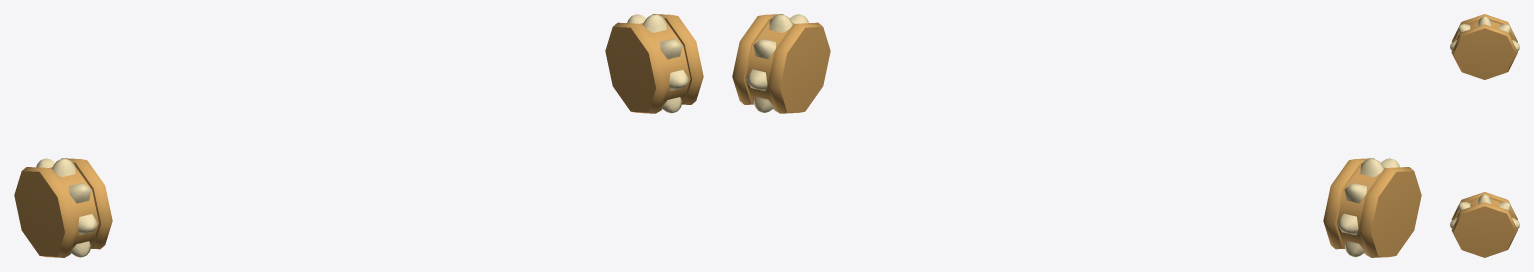
Rendered from Bracelet_2.fbx.
3 views of the same model, side by side, from view 1: azimuth 30°, elevation 25°; view 2: azimuth 150°, elevation 25°; view 3: azimuth 270°, elevation 25° (orthographic). The views are drawn at different scales.
Visible parts, largest first — view 1: Bracelet_2; view 2: Bracelet_2; view 3: Bracelet_2.
Part boxes in pixels (<box>): Bracelet_2: <box>14,14,703,257</box>; Bracelet_2: <box>732,14,1421,257</box>; Bracelet_2: <box>1450,14,1519,257</box>.
Size of the model in its own units: 95.63 by 13.9 by 14.68.
